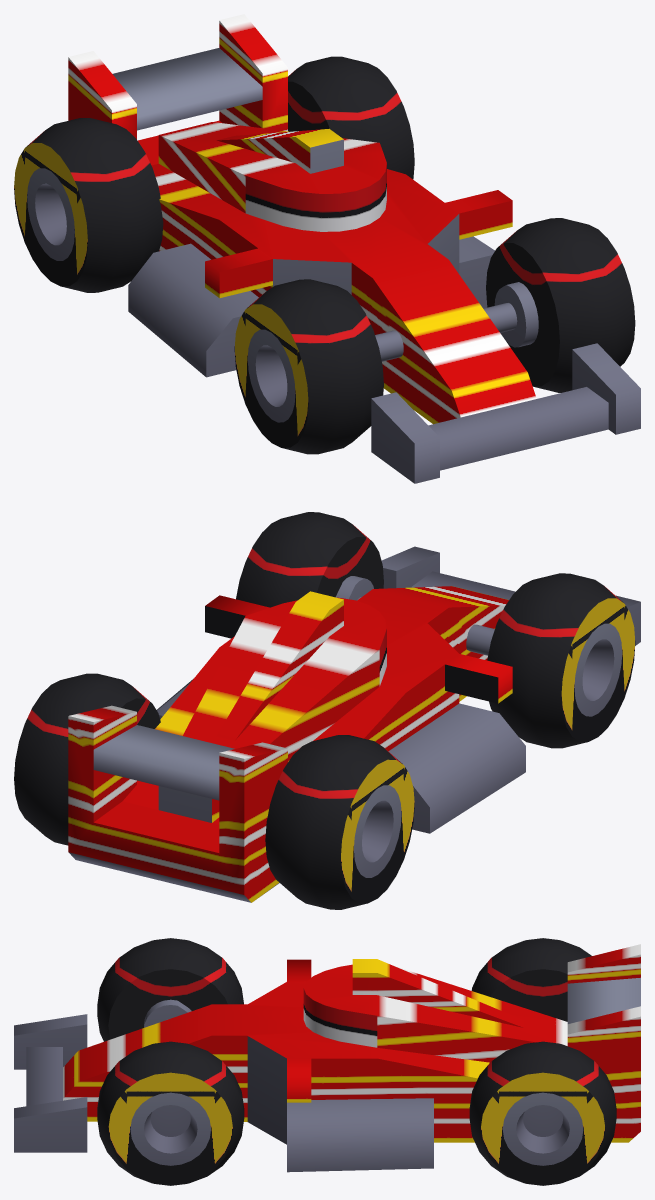
The model's file is car_ferrari.obj.
The picture shows the model from 3 angles, top to bottom: view 1: azimuth 30°, elevation 25°; view 2: azimuth 150°, elevation 25°; view 3: azimuth 270°, elevation 25°; orthographic projection. The views are drawn at different scales.
Visible parts, largest first — view 1: body, wheel-back-right, wheel-front-right, wheel-front-left, wheel-back-left; view 2: body, wheel-back-right, wheel-front-right, wheel-back-left, wheel-front-left; view 3: body, wheel-front-left, wheel-back-left, wheel-front-right, wheel-back-right.
Part boxes in pixels (x1,y1,x2,y2): body: (68,14,640,483); wheel-back-right: (14,118,163,292); wheel-front-right: (234,279,383,454); wheel-front-left: (486,218,635,392); wheel-back-left: (288,56,414,179); body: (68,546,640,902); wheel-back-right: (265,735,414,909); wheel-front-right: (487,573,635,748); wheel-back-left: (14,673,160,845); wheel-front-left: (236,512,383,607); body: (14,944,640,1172); wheel-front-left: (97,1041,244,1185); wheel-back-left: (469,1041,616,1185); wheel-front-right: (97,938,243,1041); wheel-back-right: (471,938,591,1021).
Size of the model in its own units: 1.3 by 0.7325 by 2.56.
Materials: 1 (1 with a texture image).
